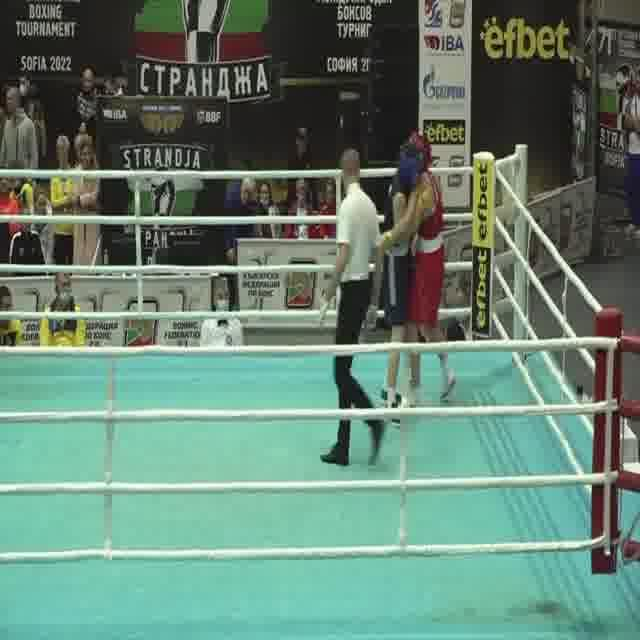blue-player: (376, 144, 423, 428)
red-player: (379, 126, 458, 407)
referee: (316, 147, 387, 470)
